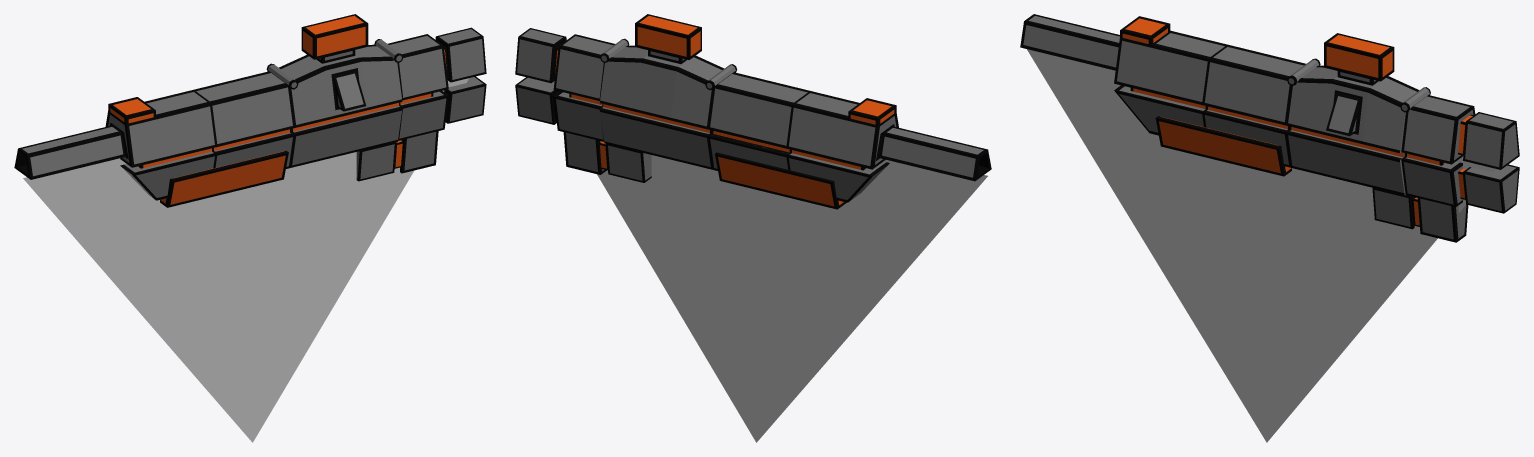
The model's file is StandardRifleHologram.fbx.
3 renders of one model, left to right at view 1: azimuth 30°, elevation 25°; view 2: azimuth 150°, elevation 25°; view 3: azimuth 330°, elevation 25°, orthographic. The views are drawn at different scales.
Parts seen in each view (by area): view 1: StandardRifleHologram.001, StandardRifleHologram; view 2: StandardRifleHologram.001, StandardRifleHologram; view 3: StandardRifleHologram.001, StandardRifleHologram.
Boxes of the visible parts, x1,y1,x2,y2 form: StandardRifleHologram.001: [23, 78, 469, 442]; StandardRifleHologram: [14, 14, 486, 207]; StandardRifleHologram.001: [552, 81, 987, 442]; StandardRifleHologram: [515, 14, 991, 209]; StandardRifleHologram.001: [1027, 49, 1495, 442]; StandardRifleHologram: [1020, 14, 1519, 242].
Size of the model in its own units: 0.4071 by 3.04 by 2.51.
